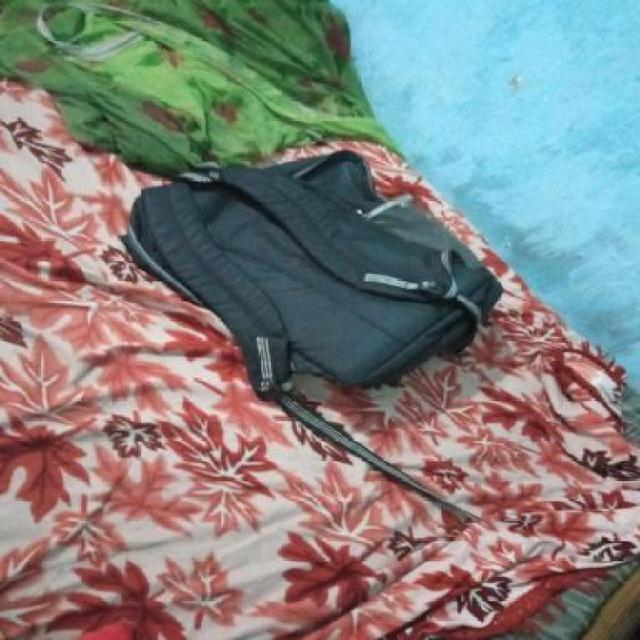backpack: (120, 148, 512, 408)
